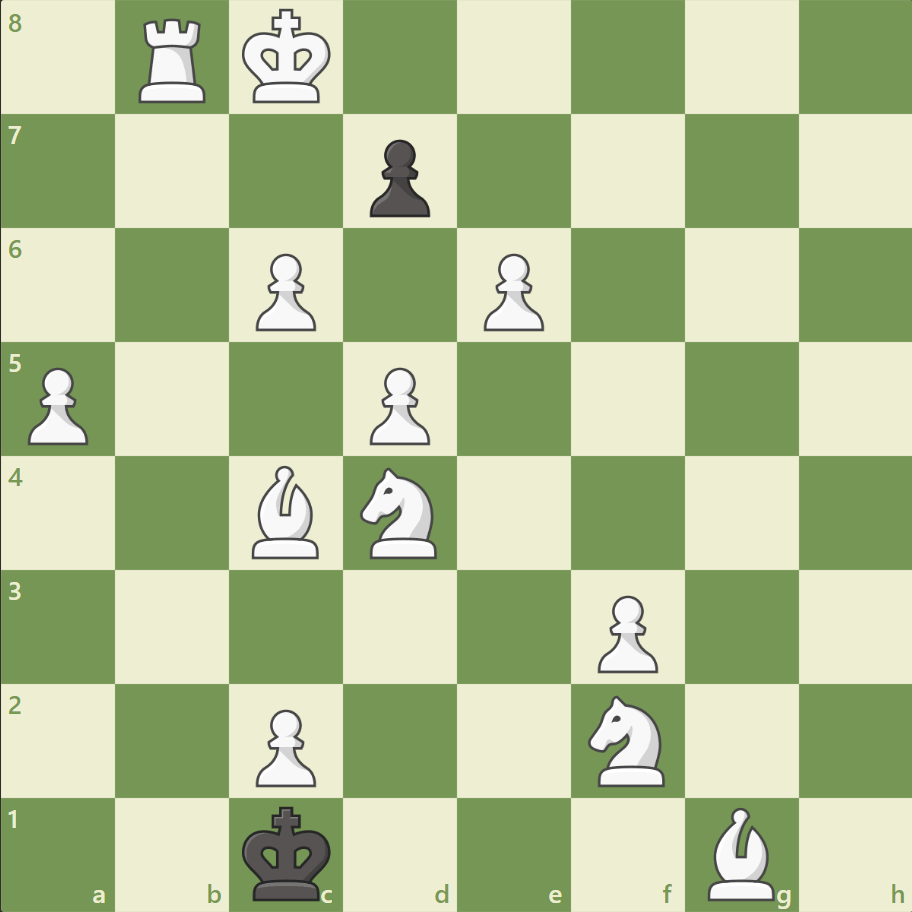B: (244, 460, 328, 563), (698, 801, 782, 904)
K: (238, 4, 338, 112)
N: (351, 461, 449, 564), (579, 688, 676, 791)
P: (247, 246, 322, 337), (474, 246, 549, 337), (20, 359, 95, 450), (247, 700, 322, 791), (361, 359, 435, 450), (588, 586, 662, 677)
R: (133, 12, 215, 109)
k: (238, 798, 338, 906)
p: (361, 132, 435, 223)
